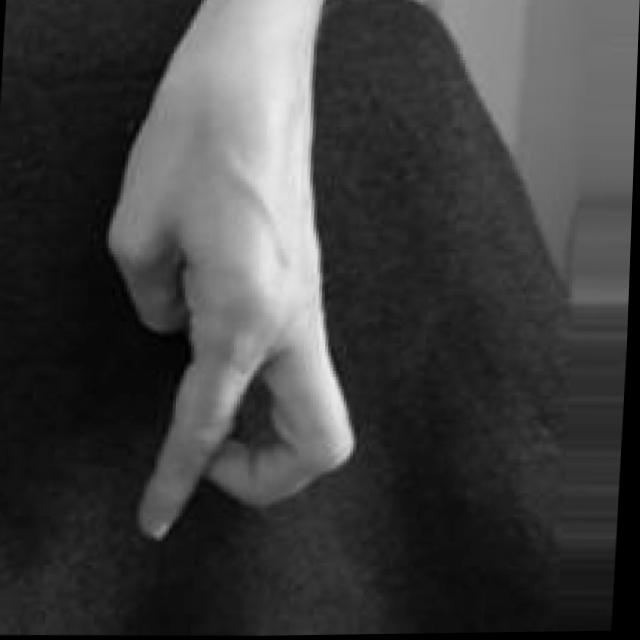P: (88, 0, 387, 553)
